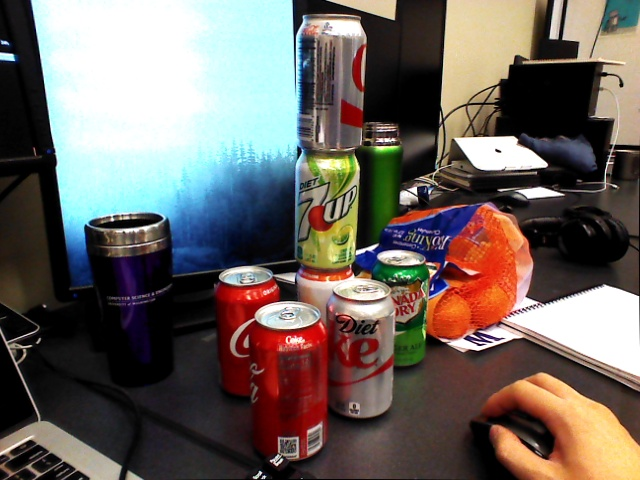can_coke: (252, 302, 328, 460), (219, 266, 249, 397)
can_diet_coke: (295, 13, 366, 153), (327, 281, 395, 419)
can_diet_seven_up: (294, 151, 358, 271)
can_ginger_ale: (394, 250, 428, 366)
